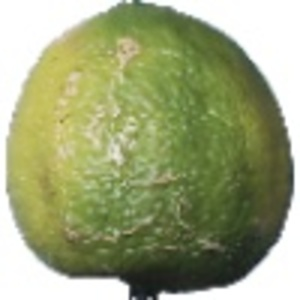limão: (5, 1, 295, 300)
